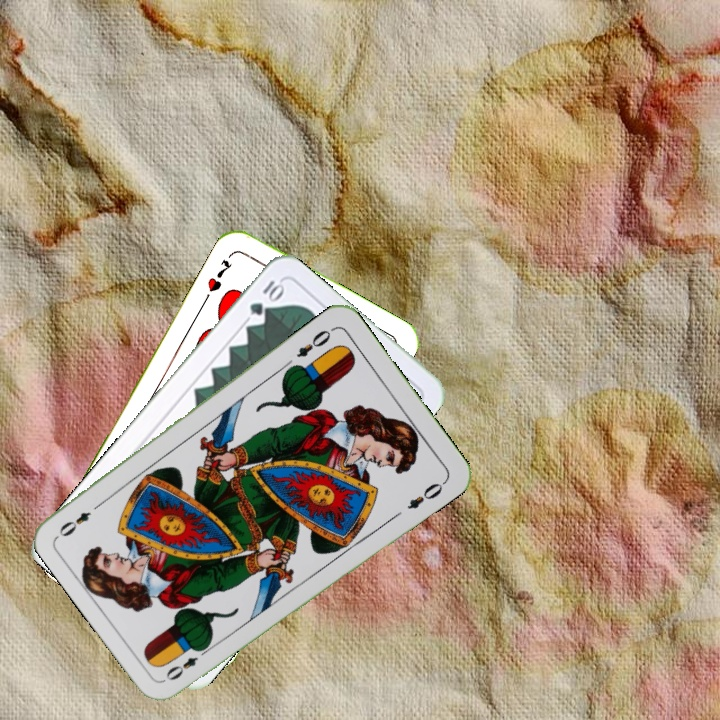EO: (161, 643, 213, 684), (292, 323, 338, 360)
G10: (245, 276, 288, 318)
H7: (203, 255, 236, 295)
